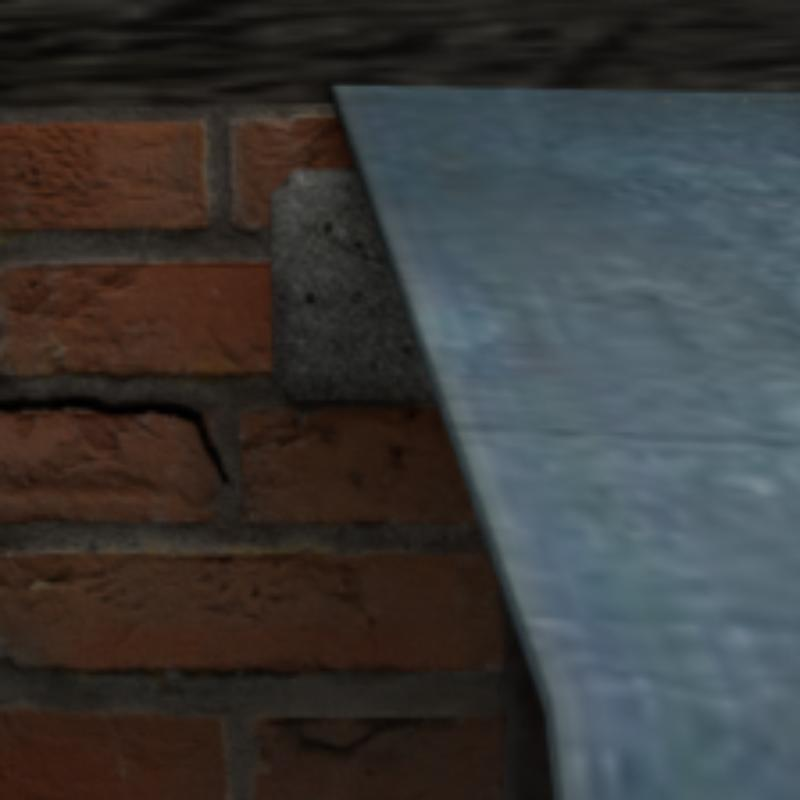pothole: (0, 396, 232, 482), (282, 718, 400, 754)
